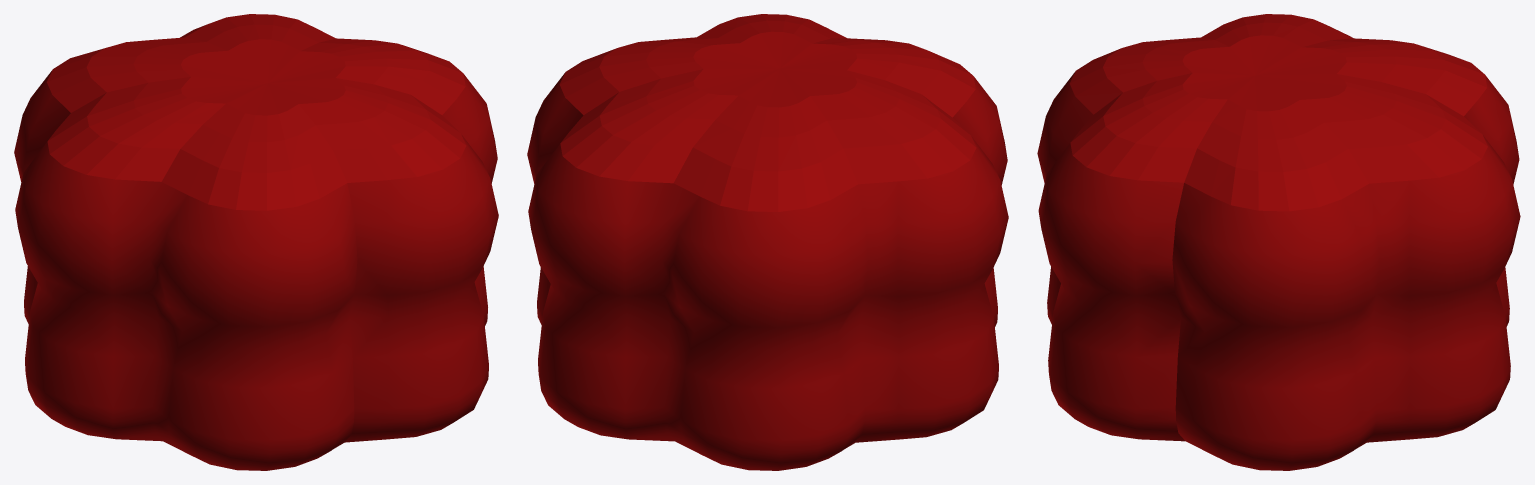
The model's file is stickman_stroke.fbx.
3 renders of one model, left to right at view 1: azimuth 30°, elevation 25°; view 2: azimuth 150°, elevation 25°; view 3: azimuth 270°, elevation 25°, orthographic.
Visible parts, largest first — view 1: stickman_troke; view 2: stickman_troke; view 3: stickman_troke.
Part boxes in pixels (left/top/right/bottom): stickman_troke: left=14, top=14, right=498, bottom=470; stickman_troke: left=527, top=14, right=1008, bottom=470; stickman_troke: left=1037, top=14, right=1520, bottom=470.
Bounding box in the file's own units: 90.04 × 57.6 × 83.46.
